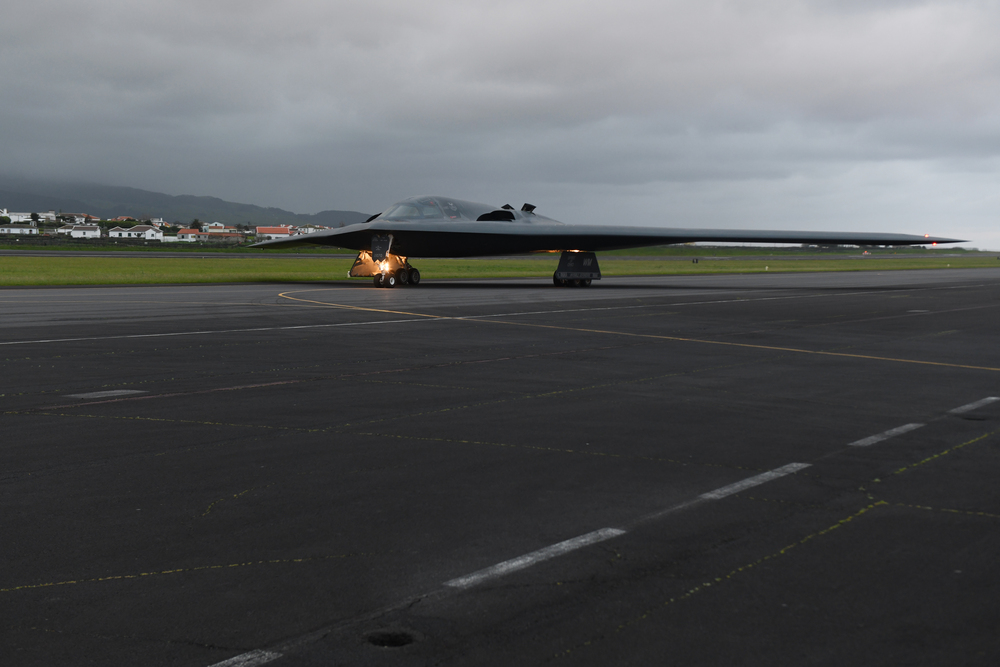B2: (244, 194, 973, 288)
